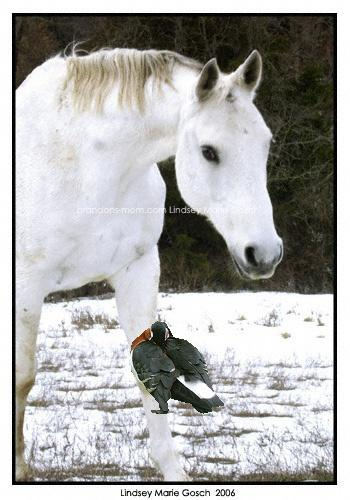tampered: (131, 322, 224, 414)
